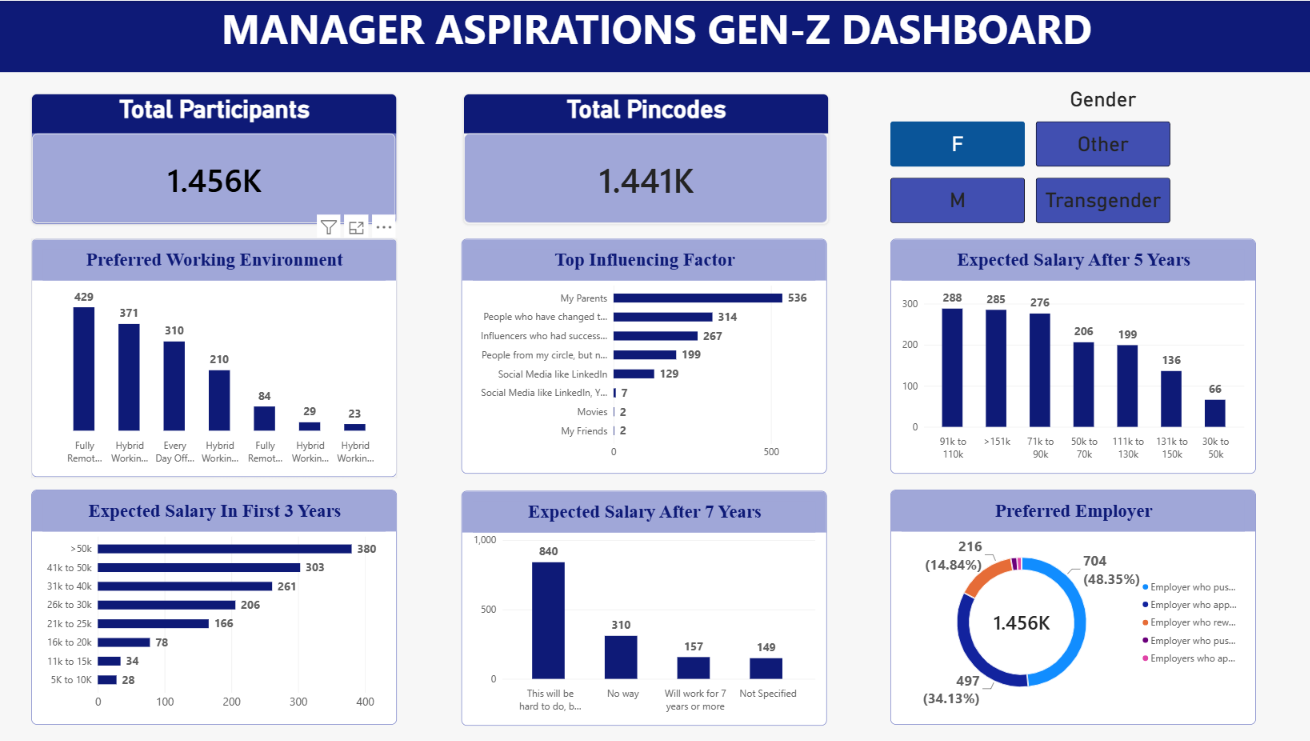

What the dashboard file says about the page in this screenshot:
{"tool":"powerbi","page":{"name":"Manager Aspiration","canvas":[1920,1080],"ordinal":0},"visuals":[{"type":"textbox","box":[0,0,1919.5,103.7],"z":0},{"type":"cardVisual","title":"Total Pincodes","fields":{"Data":["CountNonNull(Form responses 1.Zip_Code)"]},"box":[677.5,135,532.5,190],"z":1000},{"type":"cardVisual","title":"Total Participants","fields":{"Data":["CountNonNull(Form responses 1.Response_Timestamp)"]},"box":[47.5,135,532.5,190],"z":2000},{"type":"advancedSlicerVisual","fields":{"Values":["Form responses 1.Gender"]},"box":[1300,125,620,200],"z":3000},{"type":"columnChart","title":"Preferred Working Environment","fields":{"Category":["Form responses 1.Preferred_Work_Env"],"Y":["CountNonNull(Form responses 1.Preferred_Work_Env)"]},"box":[47.5,347.5,532.5,347.5],"z":4000},{"type":"clusteredBarChart","title":"Top Influencing Factor","fields":{"Category":["Form responses 1.Career_Influence_Factors"],"Y":["CountNonNull(Form responses 1.Career_Influence_Factors)"]},"box":[675,347.5,533,342],"z":5000},{"type":"clusteredColumnChart","title":"Expected Salary After 5 Years","fields":{"Category":["Form responses 1.Salary_After_5_Years"],"Y":["CountNonNull(Form responses 1.Salary_After_5_Years)"]},"box":[1300,347.5,533,342],"z":6000},{"type":"clusteredBarChart","title":"Expected Salary In First 3 Years","fields":{"Category":["Form responses 1.Salary_First_3_Years"],"Y":["CountNonNull(Form responses 1.Salary_First_3_Years)"]},"box":[47.5,712.5,533,342],"z":7000},{"type":"clusteredColumnChart","title":"Expected Salary After 7 Years","fields":{"Category":["Form responses 1.Likelihood_7Plus_Years"],"Y":["CountNonNull(Form responses 1.Likelihood_7Plus_Years)"]},"box":[675,715,533,342],"z":8000},{"type":"donutChart","title":"Preferred Employer","fields":{"Category":["Form responses 1.Employer_Preference"],"Y":["CountNonNull(Form responses 1.Employer_Preference)"]},"box":[1300,713,533,342],"z":9000}]}

Visuals, with their boxes in screenshot pixels (x1, y1, x2, y2), scaled from the page's 1920x1080 canvas onto the 1310x741 screenshot:
textbox: box(0, 0, 1309, 71)
"Total Pincodes" cardVisual: box(462, 93, 826, 223)
"Total Participants" cardVisual: box(32, 93, 396, 223)
advancedSlicerVisual - Form responses 1.Gender: box(887, 86, 1309, 223)
"Preferred Working Environment" columnChart: box(32, 238, 396, 477)
"Top Influencing Factor" clusteredBarChart: box(461, 238, 824, 473)
"Expected Salary After 5 Years" clusteredColumnChart: box(887, 238, 1251, 473)
"Expected Salary In First 3 Years" clusteredBarChart: box(32, 489, 396, 724)
"Expected Salary After 7 Years" clusteredColumnChart: box(461, 491, 824, 725)
"Preferred Employer" donutChart: box(887, 489, 1251, 724)
